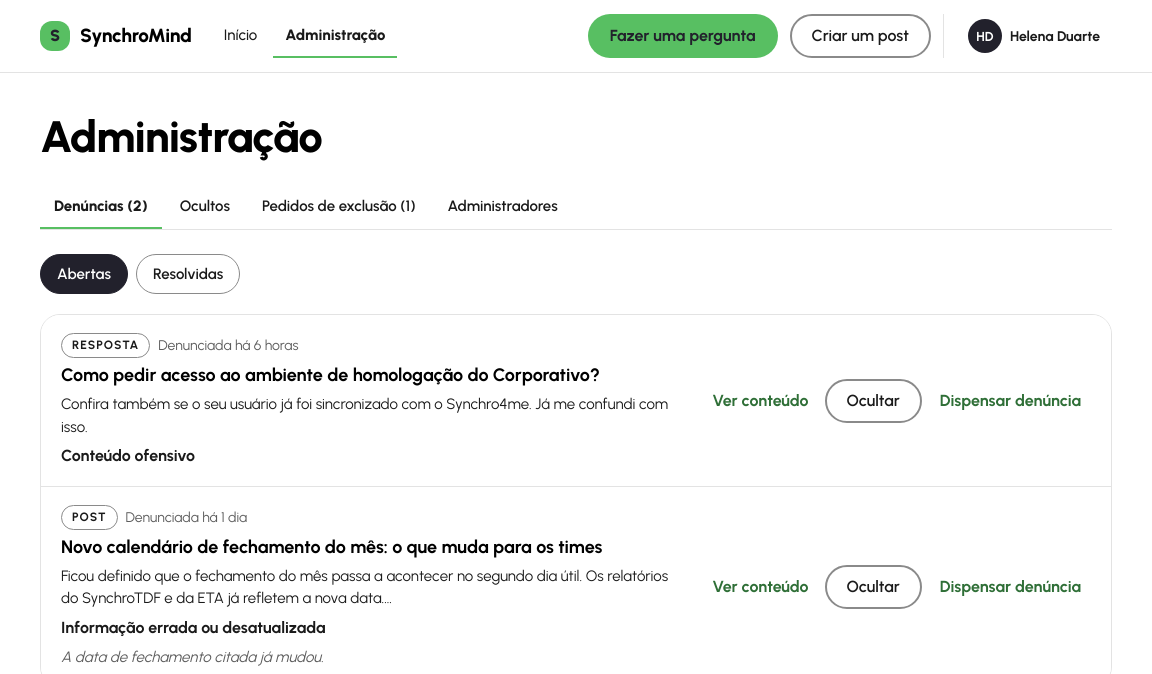
Test: aba Denúncias (HU-16) › dispensar tira da lista de abertas e vai para resolvidas
The width and height of the screenshot is (1152, 674).
Check: the heading "Administração" is shown, box left=40, top=110, right=322, bottom=163
Click the 2nd button "Dispensar denúncia" at (1010, 587), box left=930, top=565, right=1091, bottom=609
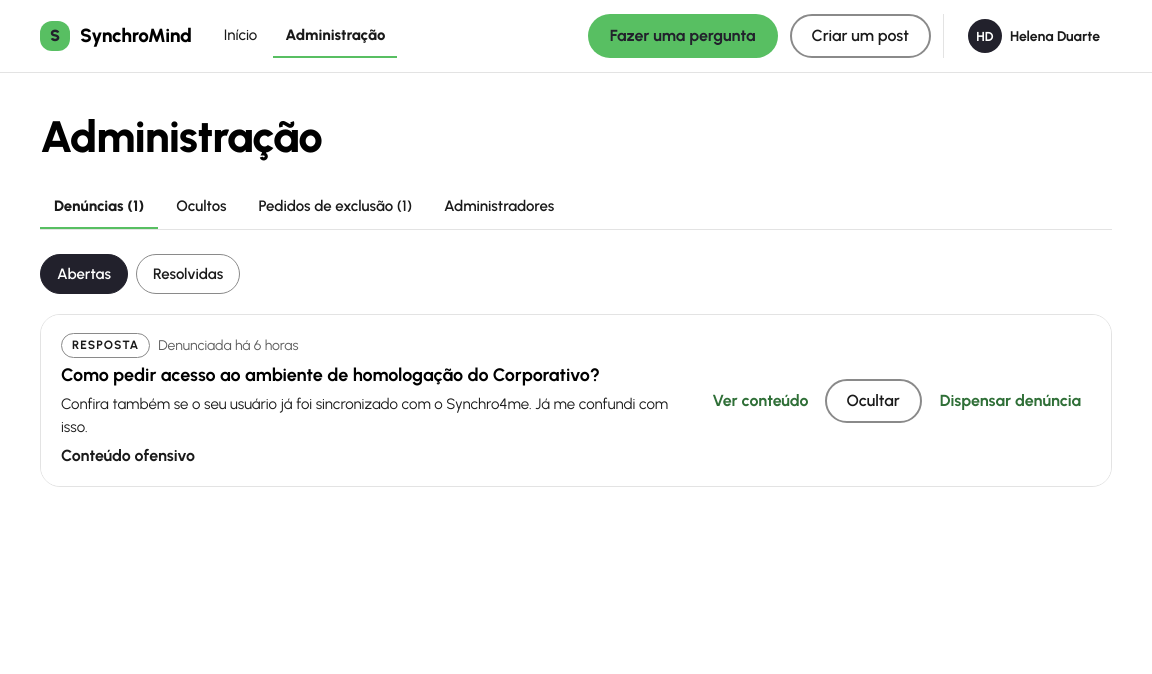
Check: the text "A data de fechamento citada já mudou" is gone
Check: the tab "Denúncias (1)" is shown, box left=40, top=185, right=158, bottom=229
Click the radio button labelled "Resolvidas" at (188, 274), box left=136, top=254, right=240, bottom=294
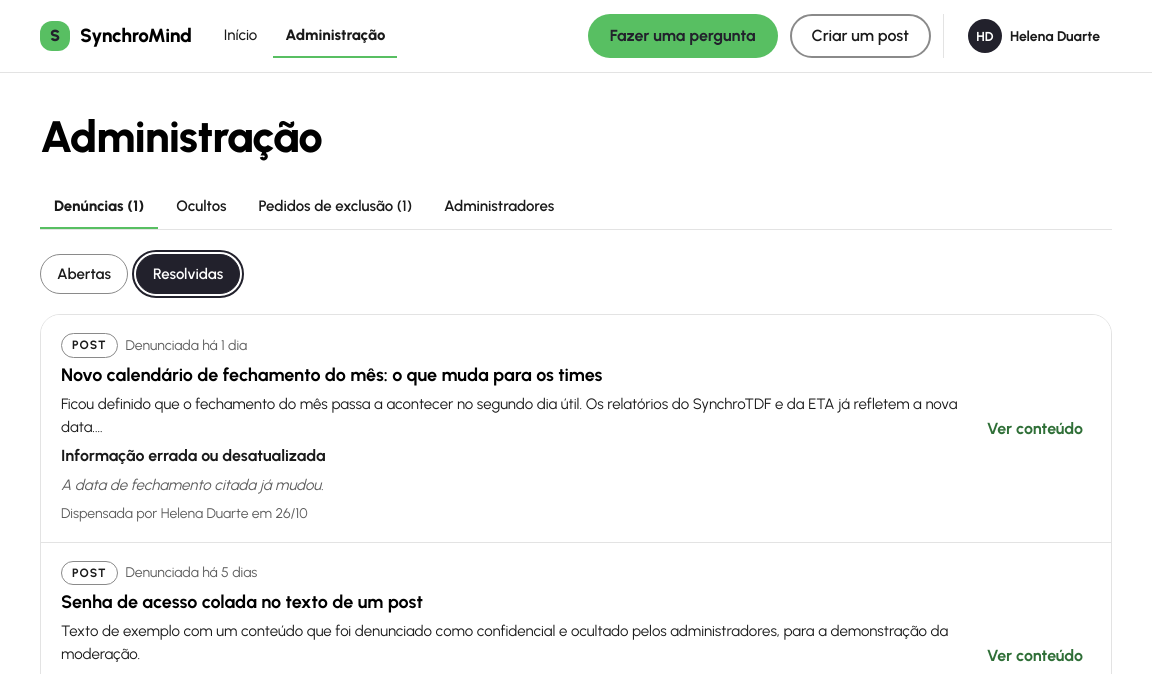
Check: the text "Dispensada por Helena Duarte em 26/10" is shown, box left=61, top=505, right=308, bottom=522
